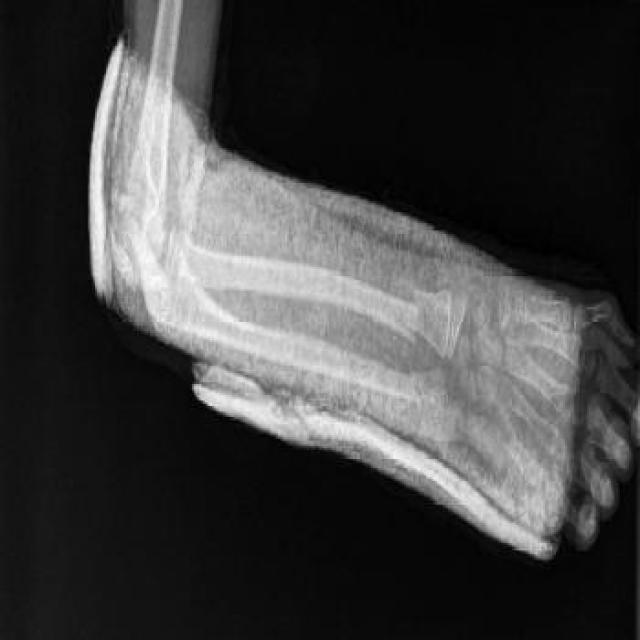Fracture: (404, 274, 431, 340)
